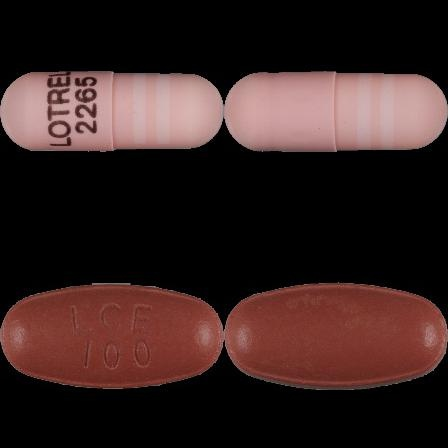0078-0406: (0, 0, 224, 224)
